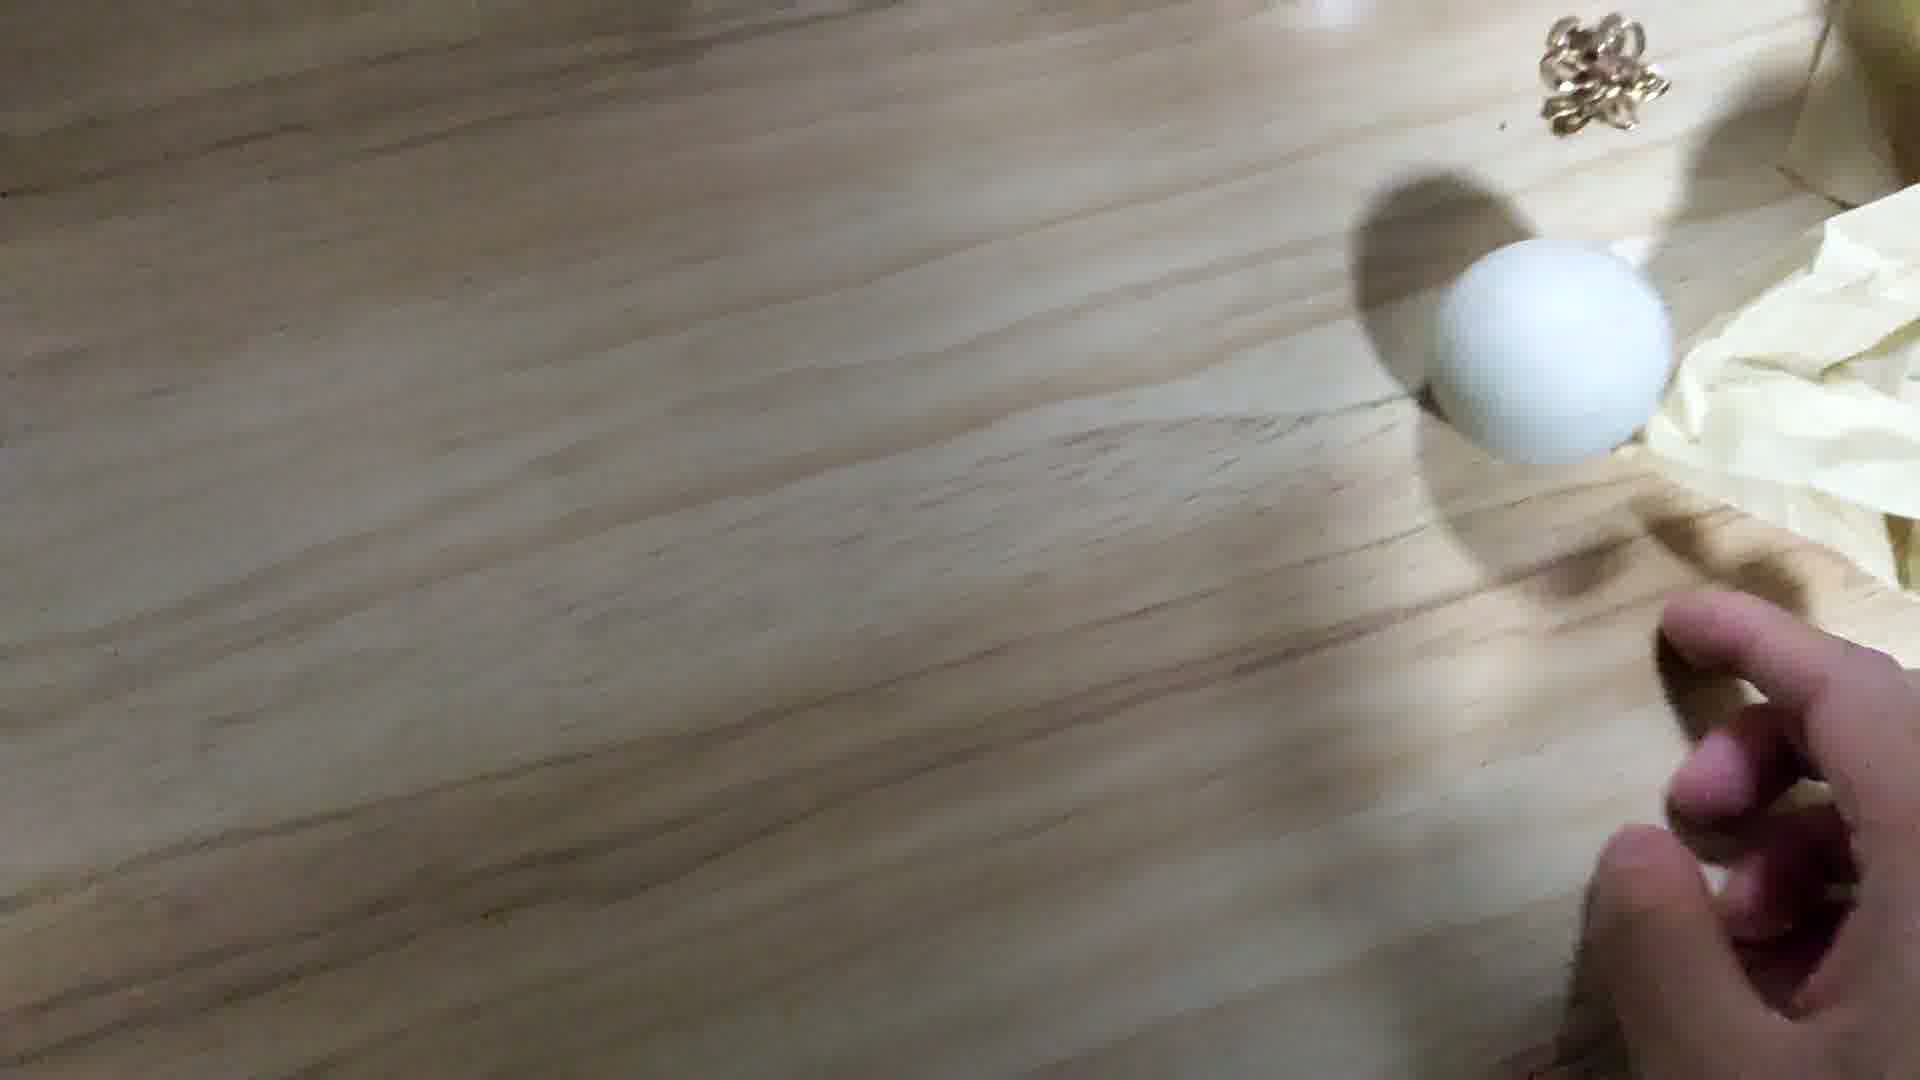Ball: (1433, 243, 1672, 471)
